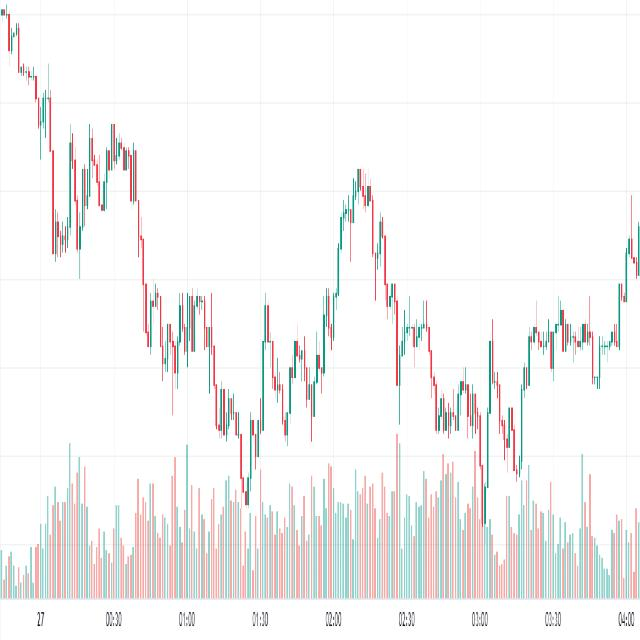Ascending-Triangle: (48, 115, 163, 319)
Head-Shoulders: (284, 117, 444, 443)
Inverse-Head-Shoulders: (211, 290, 272, 509), (493, 317, 535, 498)
